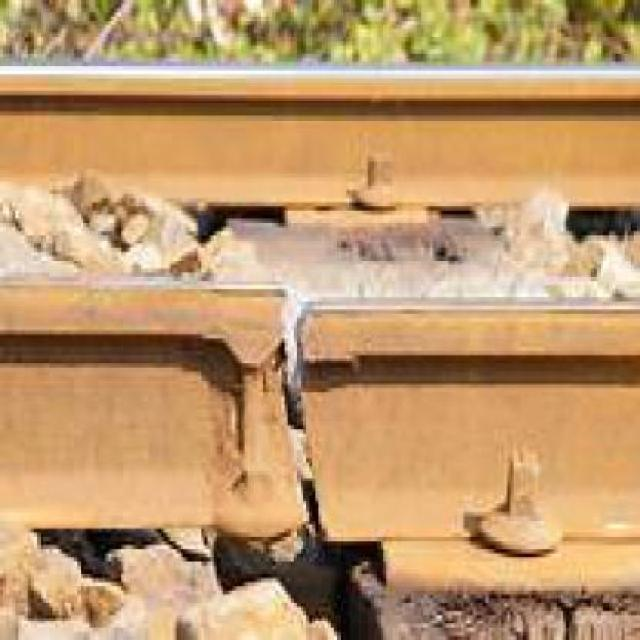defective: (15, 169, 640, 640)
